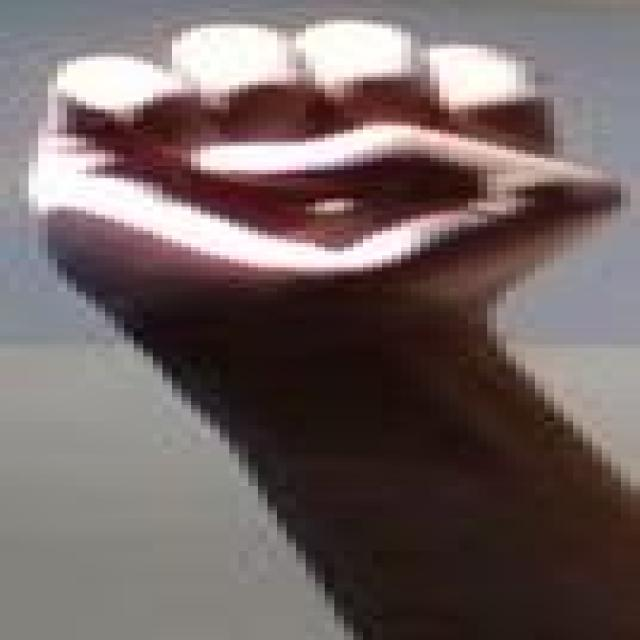E: (11, 1, 640, 336)
